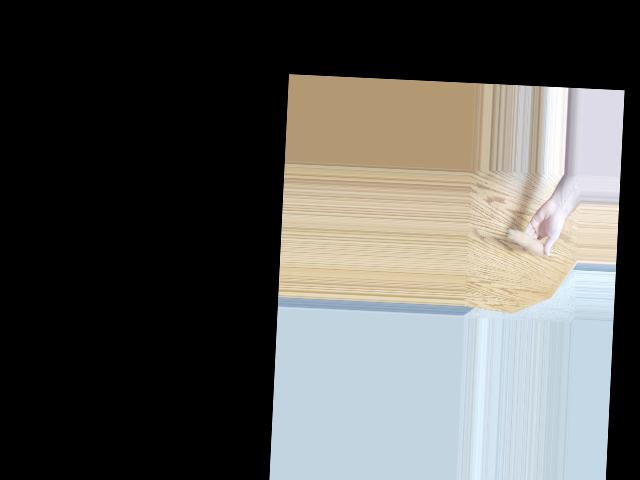sweet_potato: (506, 226, 549, 256)
